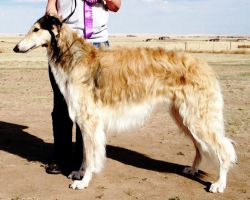borzoi: (12, 10, 240, 192)
